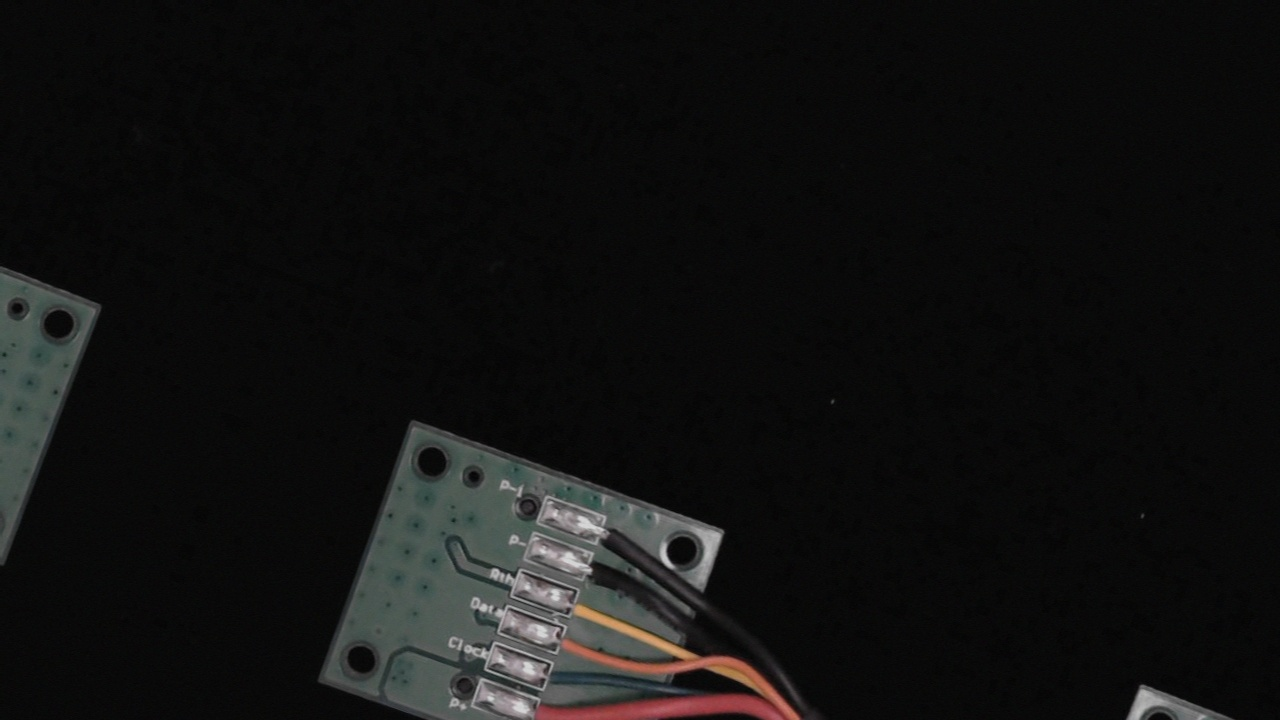Black: (565, 547, 637, 598)
Black1: (580, 506, 654, 560)
Green: (521, 655, 590, 705)
Orange: (536, 620, 605, 669)
Red: (508, 690, 585, 720)
Yellow: (551, 584, 625, 634)
